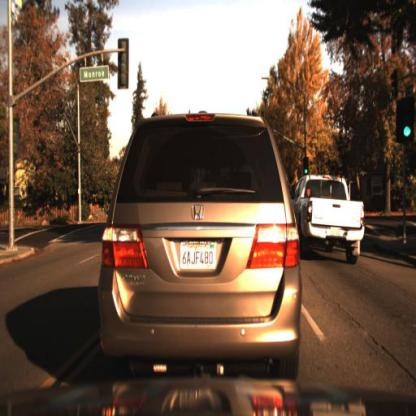car: (97, 112, 305, 378), (294, 173, 365, 265)
trafficLight-Green: (399, 94, 415, 148), (302, 156, 311, 181)
